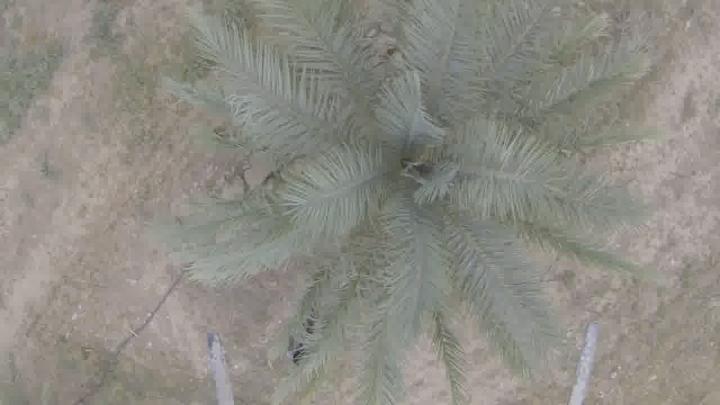Date-Palm-Crown: (281, 50, 556, 296)
